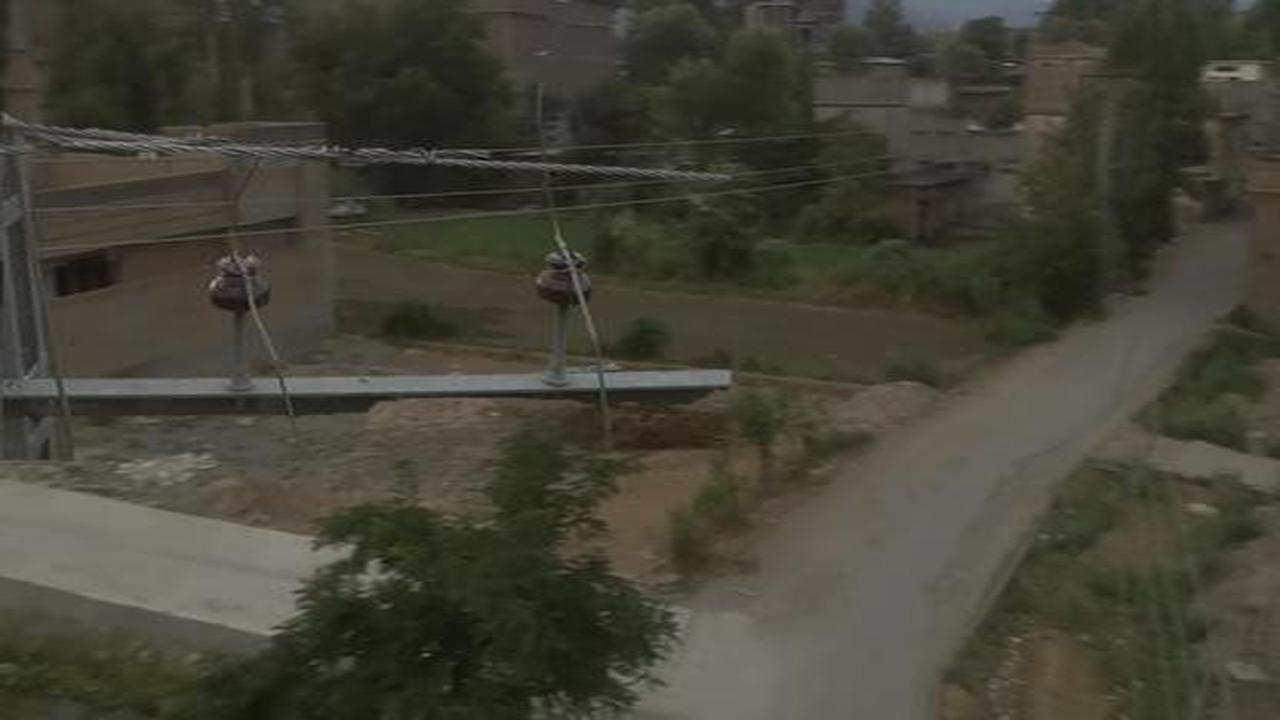insulator_pin: (202, 250, 275, 314), (534, 248, 598, 313)
